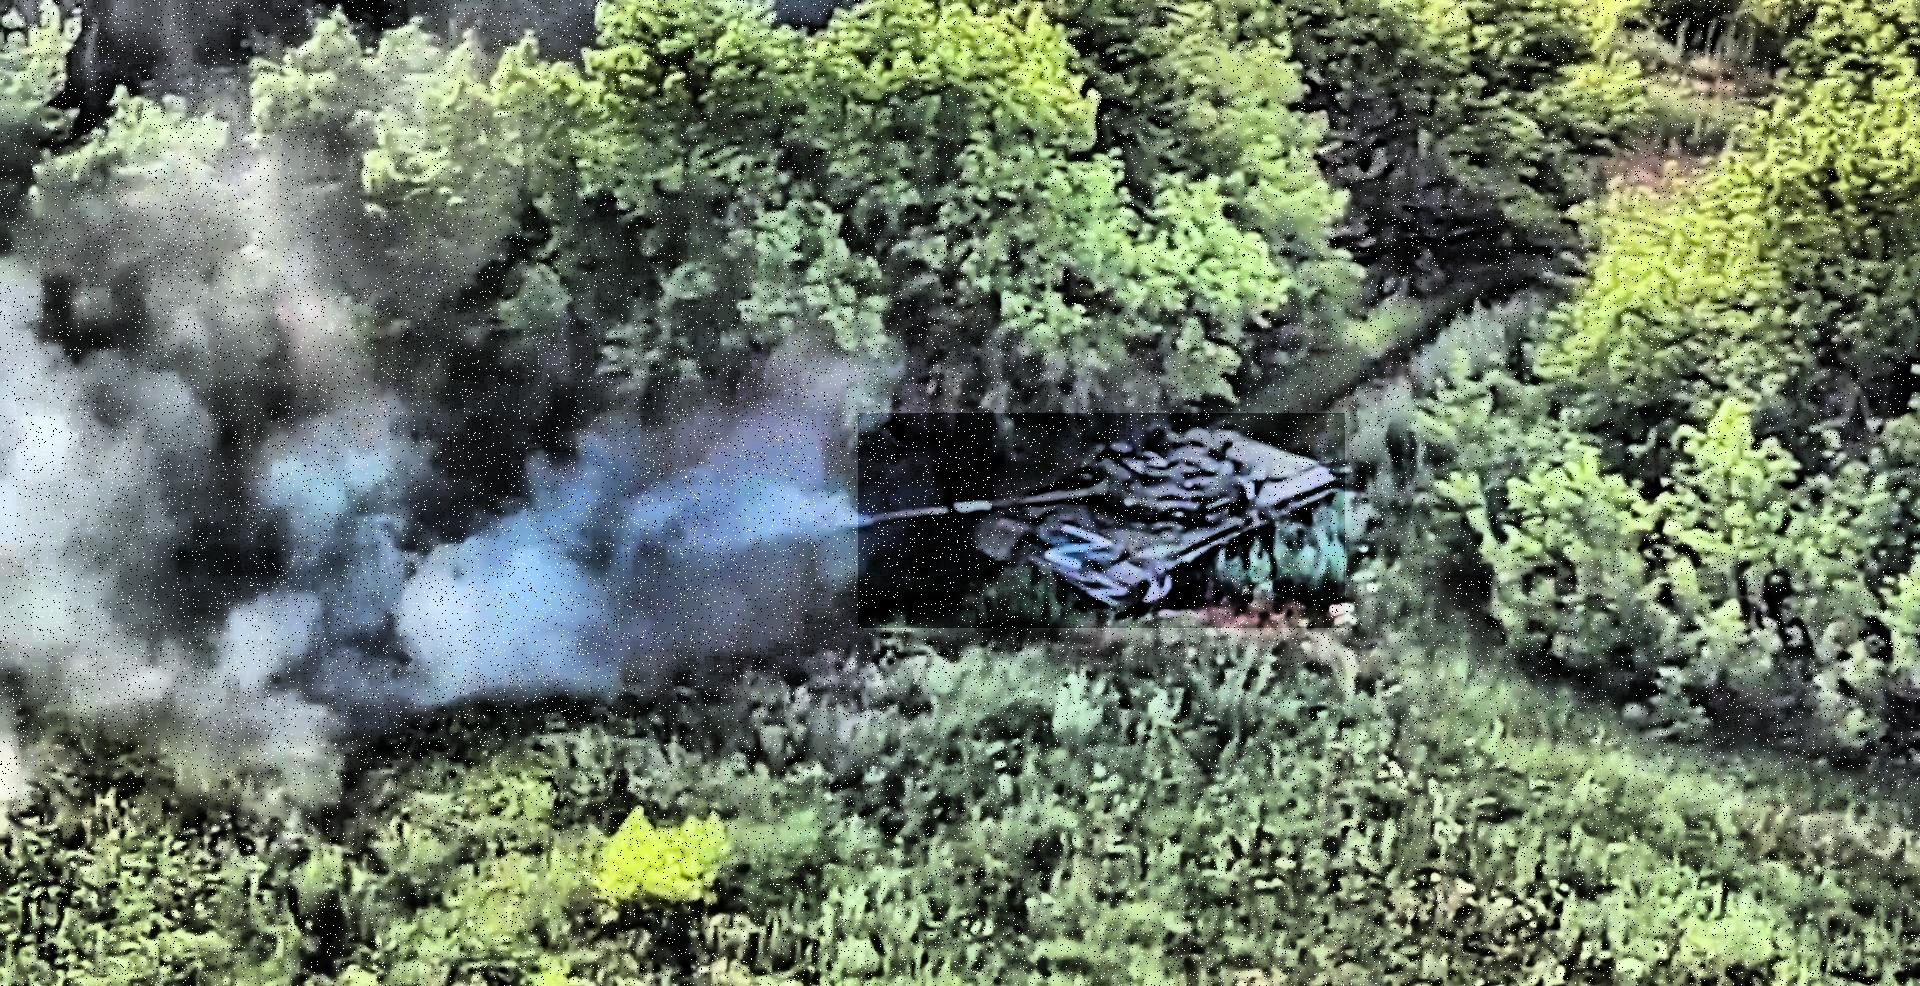military-vehicle: (858, 413, 1345, 628)
